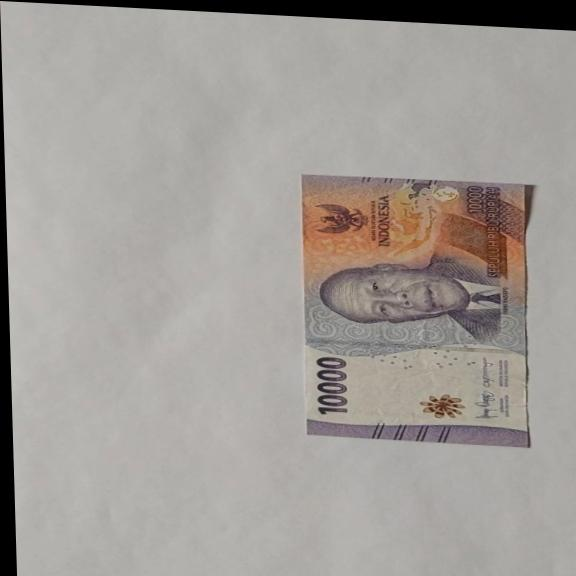Kertas: (296, 171, 535, 447), (312, 355, 350, 417)
